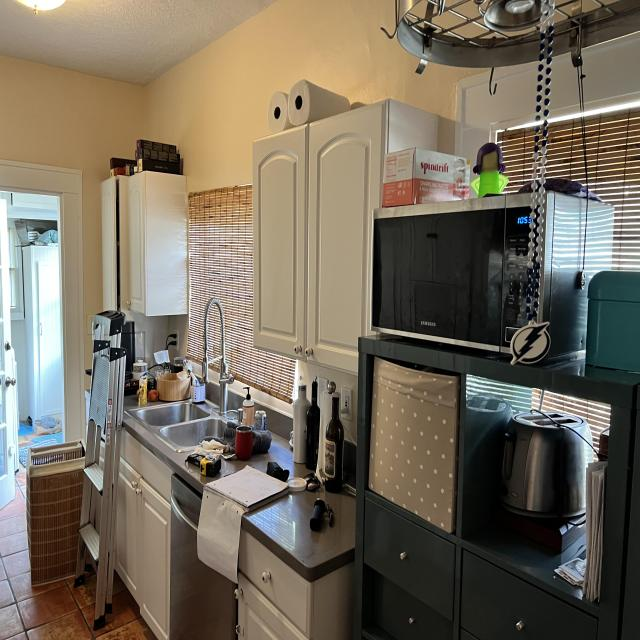Appliance_Dishwasher: (165, 474, 238, 640)
Appliance_Microwave: (371, 191, 614, 366)
Appliance_Sink: (125, 298, 234, 453), (126, 298, 234, 453)
Cabinet_Flat: (238, 530, 308, 633), (124, 432, 173, 502)
Cabinet_Raised_Panel: (251, 105, 382, 376), (118, 459, 170, 640), (101, 173, 145, 314), (236, 575, 308, 640)
Cabinet_Shaker: (360, 502, 598, 640)
Countertop_Concrete: (240, 492, 356, 583), (122, 396, 201, 483), (220, 433, 310, 479)
